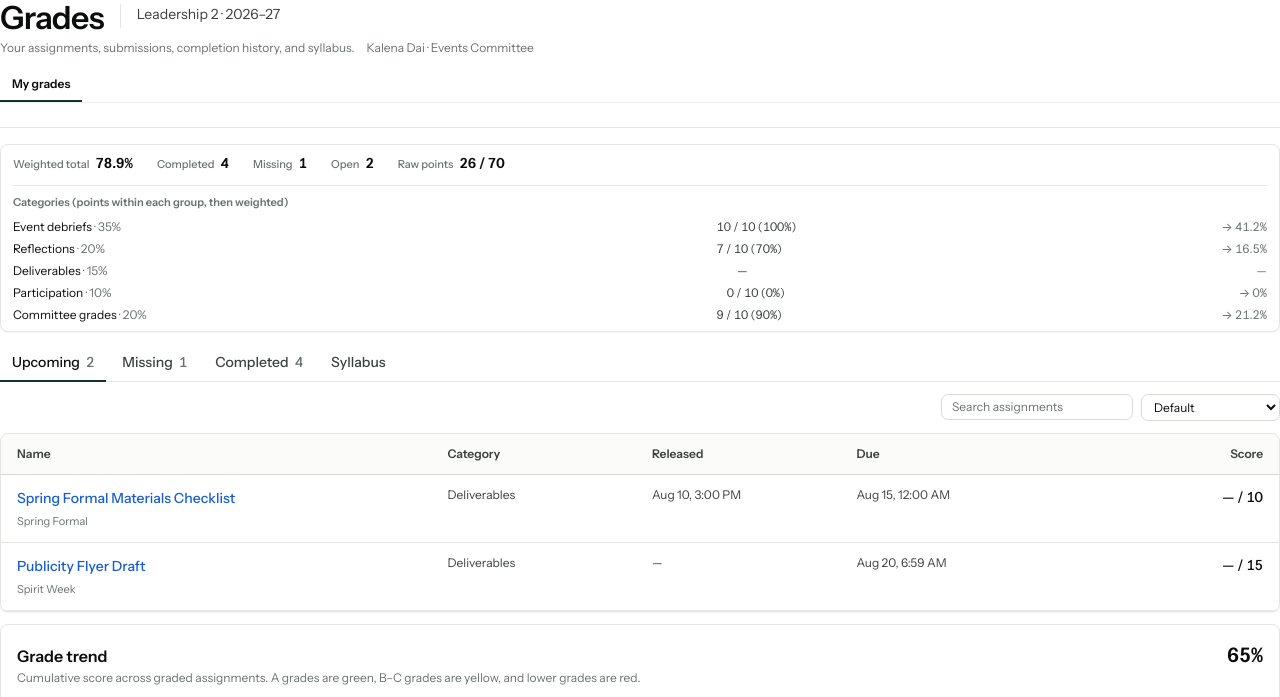
Scenario: GradesPage › shows missing assignments on the Missing tab
Click the tab "Missing1". click: (155, 362)
box: [110, 344, 199, 382]
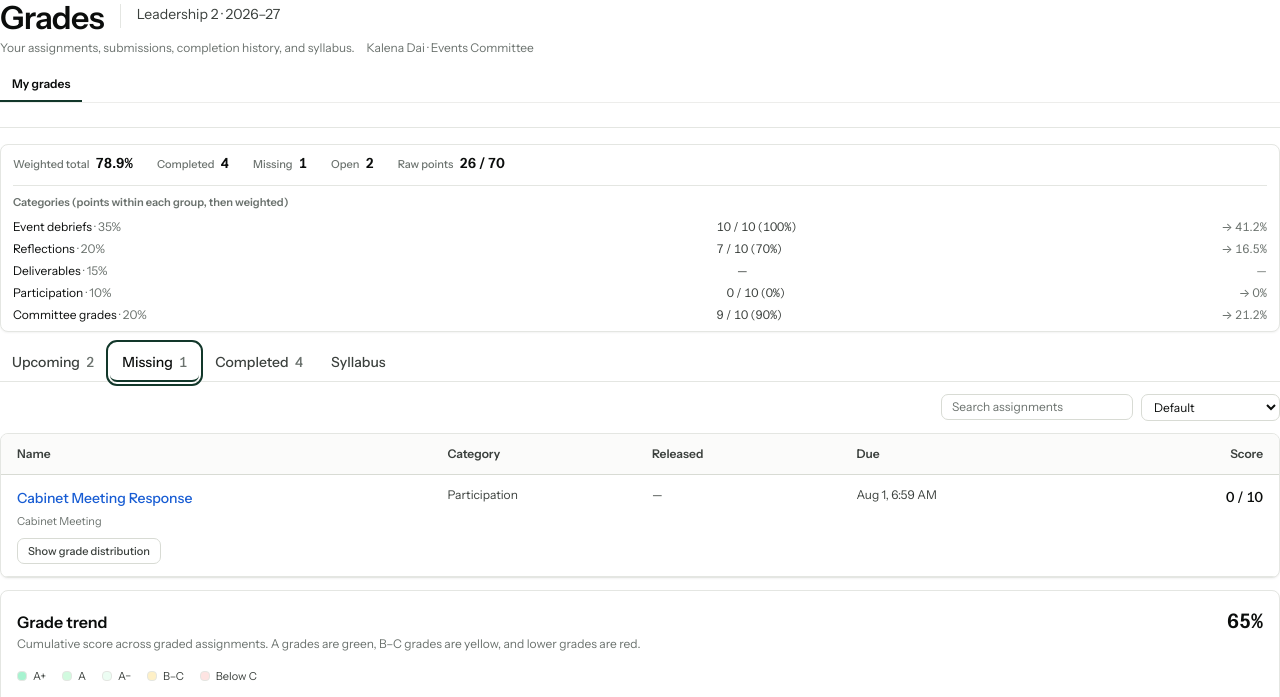
Expected: the link "Cabinet Meeting Response" is shown, [17, 488, 192, 506]
